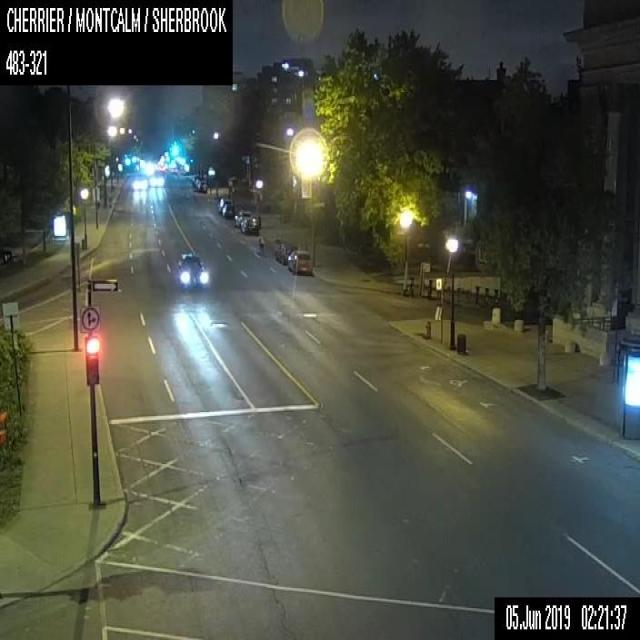cyclist: (258, 236, 265, 256)
vehicle: (175, 250, 207, 288), (286, 250, 312, 273), (274, 243, 296, 264), (240, 213, 259, 233), (234, 208, 251, 227), (148, 171, 165, 186), (217, 197, 232, 213), (131, 174, 147, 189), (222, 203, 234, 217), (197, 180, 207, 192)
